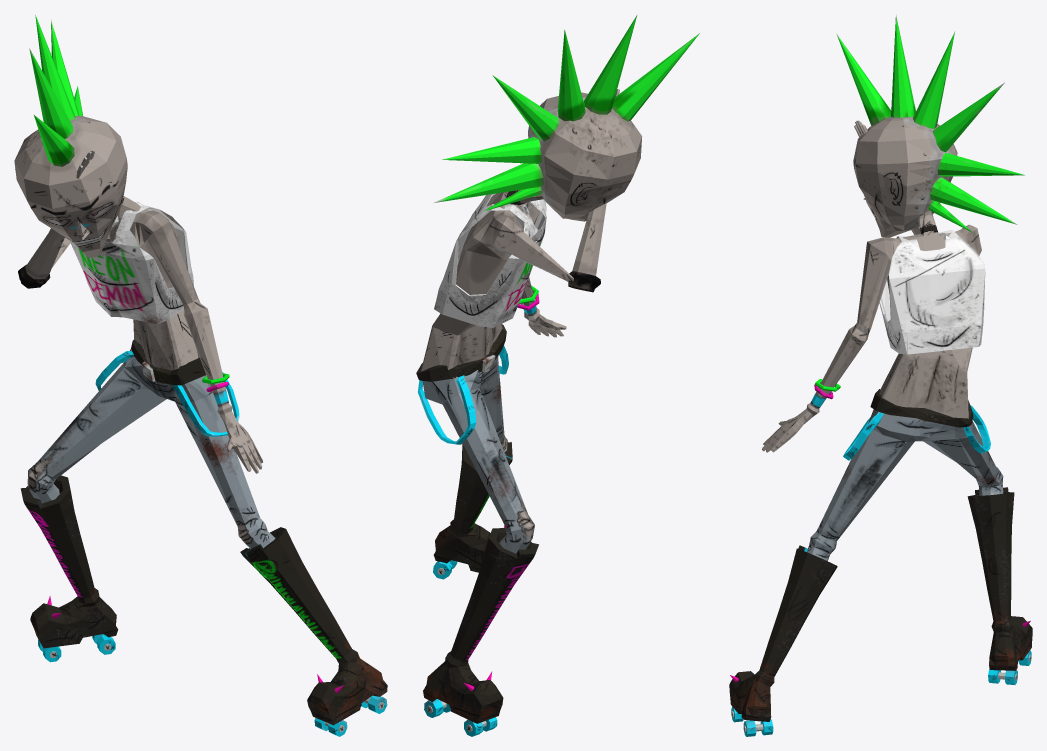
The model's file is punkAnimation_000018.obj.
3 views of the same model, side by side, from view 1: azimuth 30°, elevation 25°; view 2: azimuth 150°, elevation 25°; view 3: azimuth 270°, elevation 25° (orthographic). The views are drawn at different scales.
Parts seen in each view (by area): view 1: Cube.004_Cube.003; view 2: Cube.004_Cube.003; view 3: Cube.004_Cube.003.
Part boxes in pixels (x1=…): Cube.004_Cube.003: x1=14, y1=15, x2=387, y2=736; Cube.004_Cube.003: x1=416, y1=15, x2=699, y2=736; Cube.004_Cube.003: x1=729, y1=15, x2=1032, y2=736.
Bounding box in the file's own units: 3.15 × 6.71 × 3.01.
